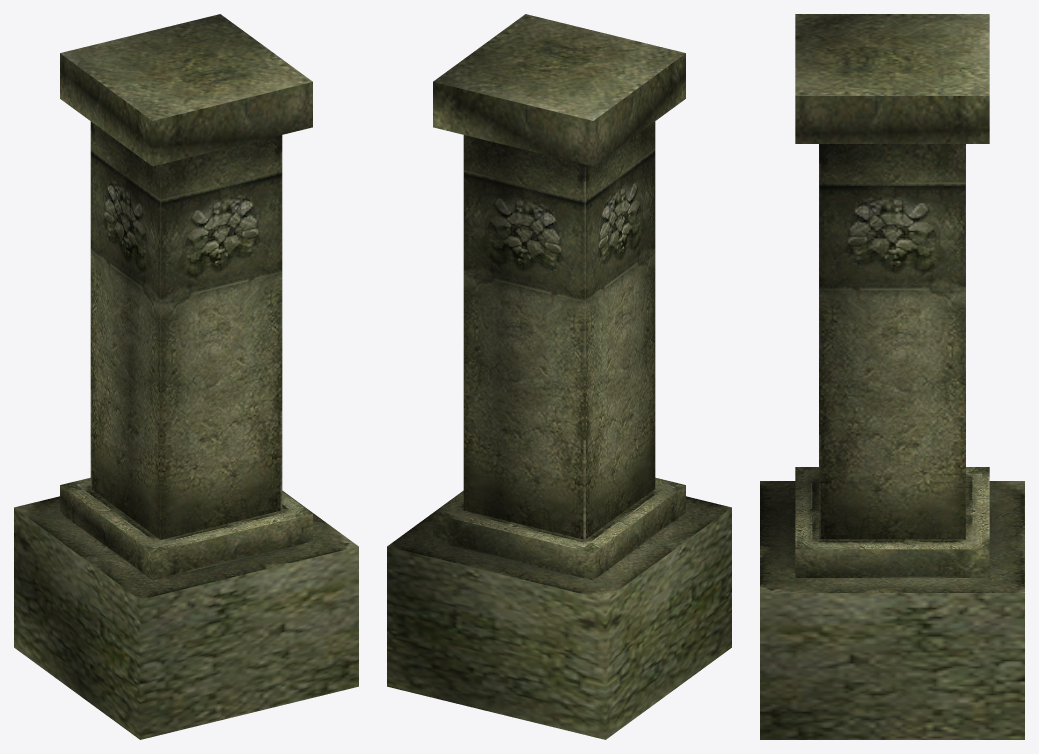
The model's file is stst21.dae.
3 renders of one model, left to right at view 1: azimuth 30°, elevation 25°; view 2: azimuth 150°, elevation 25°; view 3: azimuth 270°, elevation 25°, orthographic. The views are drawn at different scales.
Visible parts, largest first — view 1: dguncoloumn00; view 2: dguncoloumn00; view 3: dguncoloumn00.
Part boxes in pixels (x1=…): dguncoloumn00: x1=14, y1=14, x2=358, y2=739; dguncoloumn00: x1=387, y1=14, x2=731, y2=739; dguncoloumn00: x1=760, y1=14, x2=1024, y2=739.
Size of the model in its own units: 0.5 by 0.5 by 1.31.
Materials: 1 (1 with a texture image).
